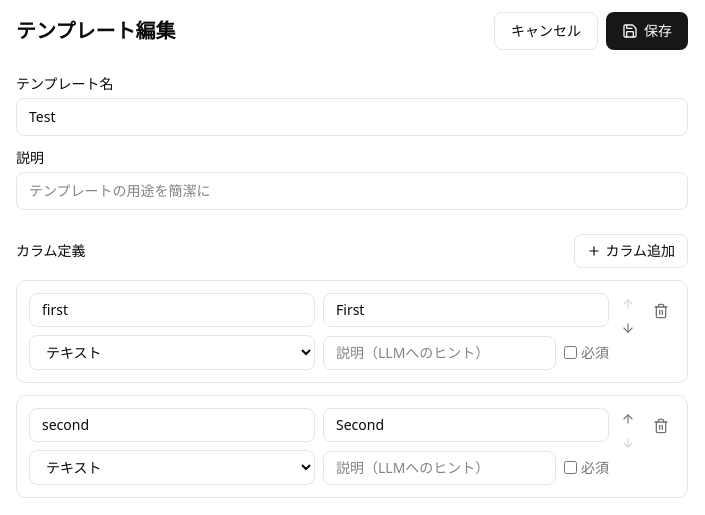
TemplateEditor › reorders columns when move down is clicked
What coordinates should you click on to do the following:
click the 1st button titled "下へ移動"
I would click on:
 (628, 328)
Its box is [617, 317, 639, 339].
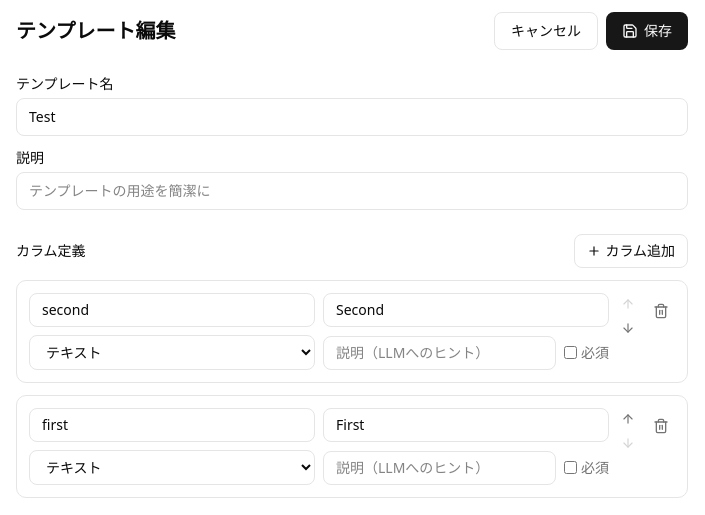
Expected: the field with placeholder "カラム名 (snake_case)" holds "second", [29, 293, 315, 327]
Expected: the field with placeholder "カラム名 (snake_case)" holds "first", [29, 408, 315, 442]
